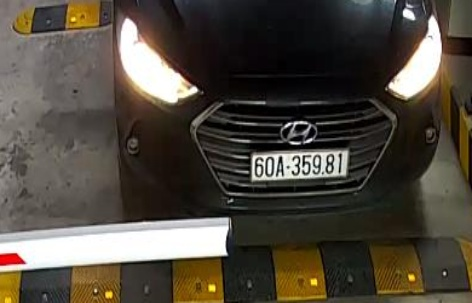plate: (244, 146, 357, 186)
